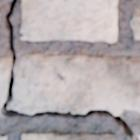brick: (21, 0, 116, 41), (22, 132, 114, 139), (131, 10, 139, 38), (0, 136, 6, 139)
broken_brick: (9, 52, 139, 114), (0, 56, 10, 104)
crack: (0, 0, 139, 139), (20, 31, 24, 38), (109, 135, 115, 138)
